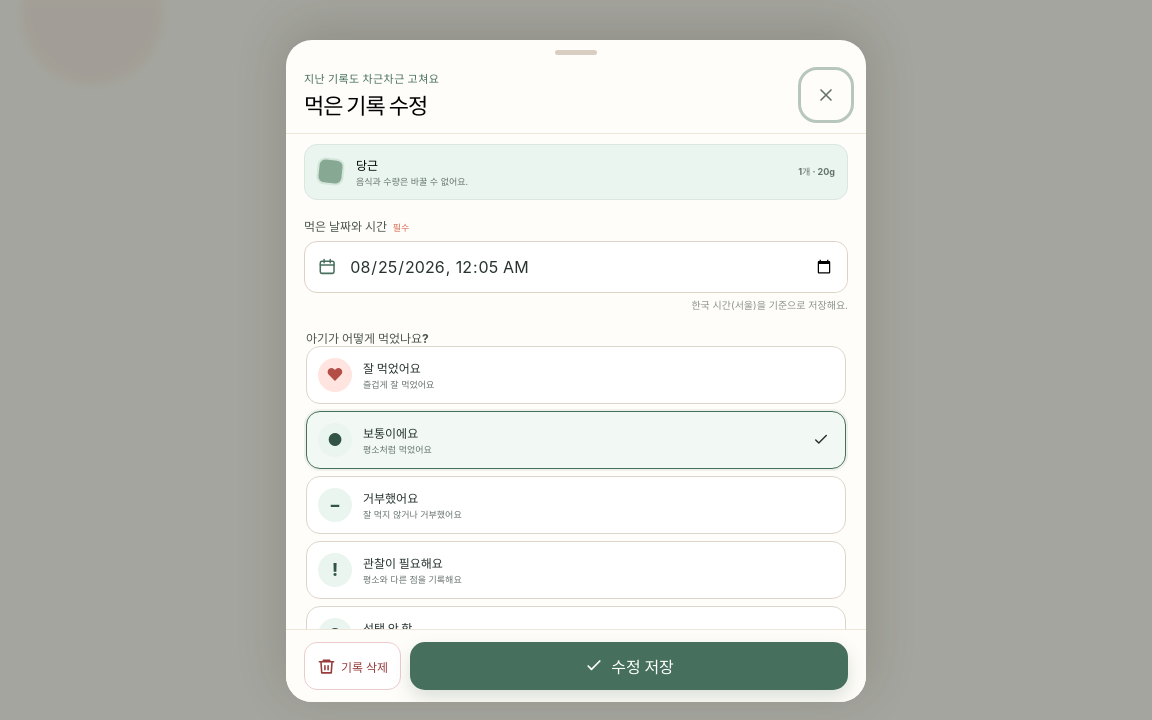
it: 먹은 기록 수정 시트 › 현재보다 미래인 먹은 시각은 저장하지 않는다
Replace the text in the field named "먹은 날짜와 시간, 서울 기준" with "2026-08-25T12:35": (592, 267) x1=336 y1=242 x2=847 y2=292
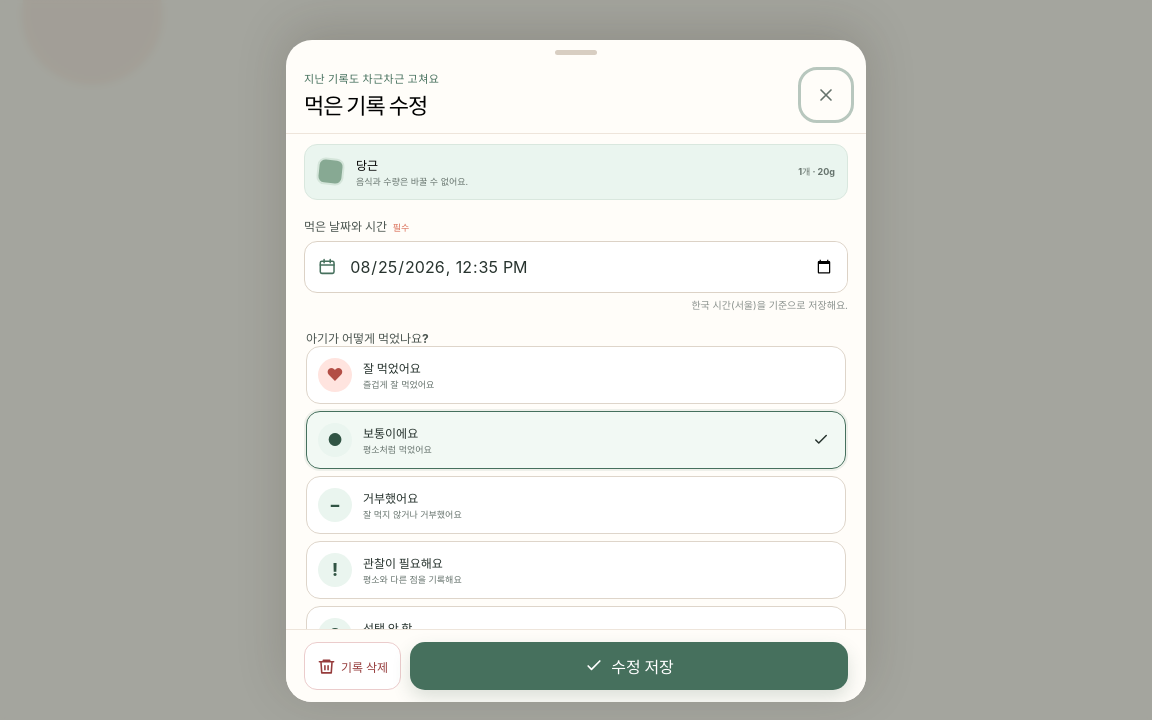
Click the button "수정 저장": (629, 666) x1=410 y1=642 x2=848 y2=690
(page scrolled)
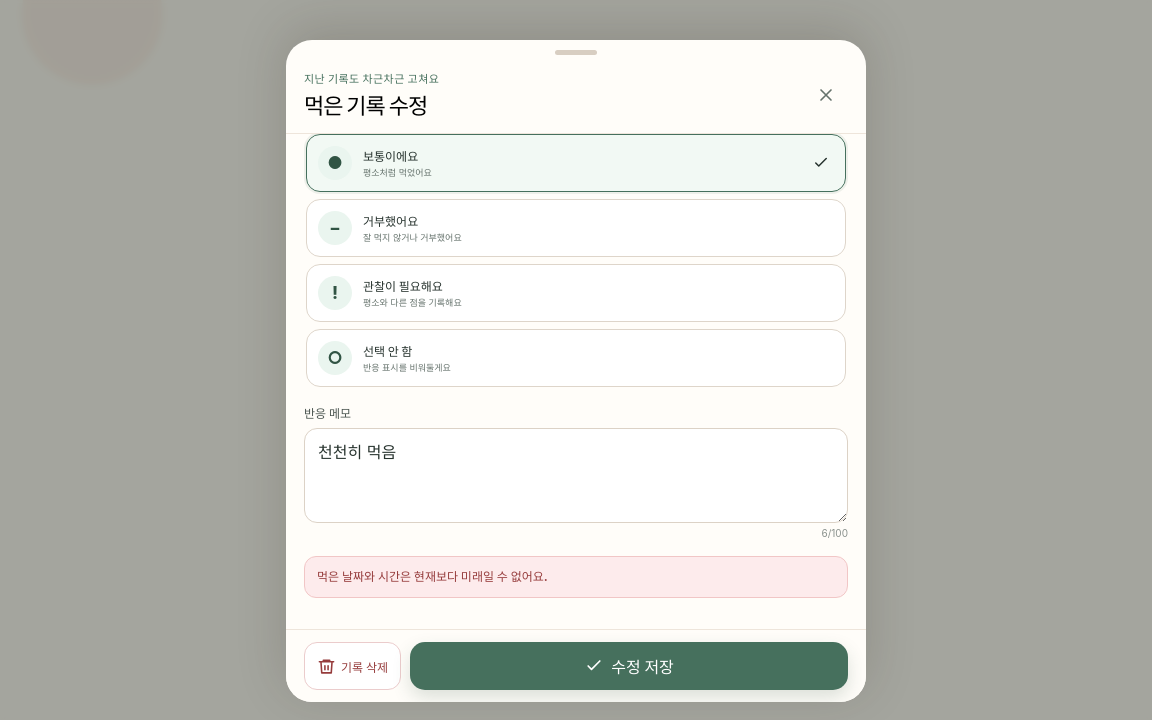
Expected: the message reads "먹은 날짜와 시간은 현재보다 미래일 수 없어요.", x1=317 y1=569 x2=548 y2=584
